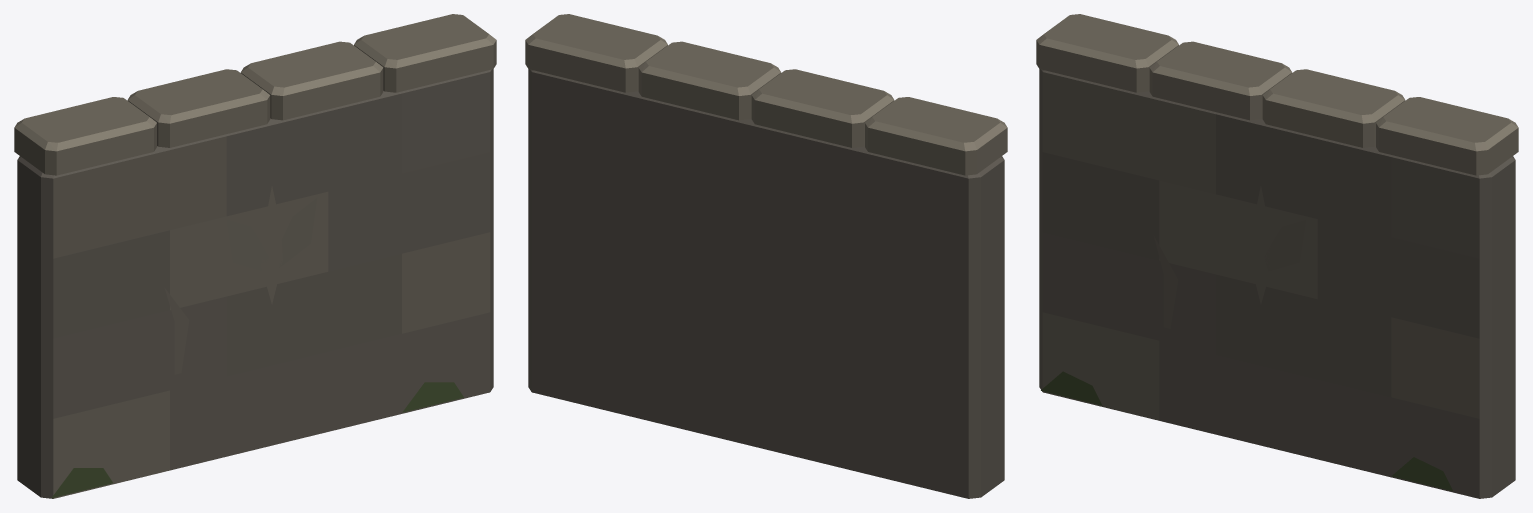
The model's file is wall_garden_4m.glb.
3 views of the same model, side by side, from view 1: azimuth 30°, elevation 25°; view 2: azimuth 150°, elevation 25°; view 3: azimuth 330°, elevation 25° (orthographic).
Visible parts, largest first — view 1: Body_wall_garden_4m.001; view 2: Body_wall_garden_4m.001; view 3: Body_wall_garden_4m.001.
Part boxes in pixels (box(x1,y1,x2,y2)): Body_wall_garden_4m.001: box(14, 14, 496, 498); Body_wall_garden_4m.001: box(525, 14, 1007, 498); Body_wall_garden_4m.001: box(1036, 14, 1518, 498).
Size of the model in its own units: 4 by 3 by 0.6.
